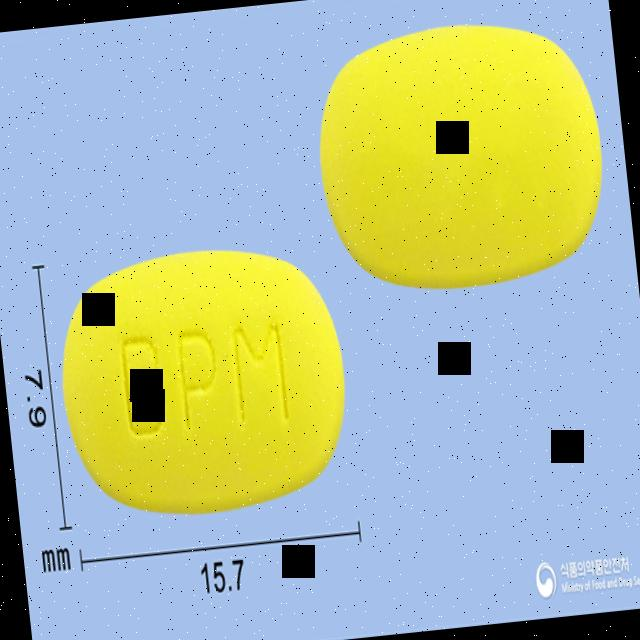Claycin: (45, 232, 364, 534)
